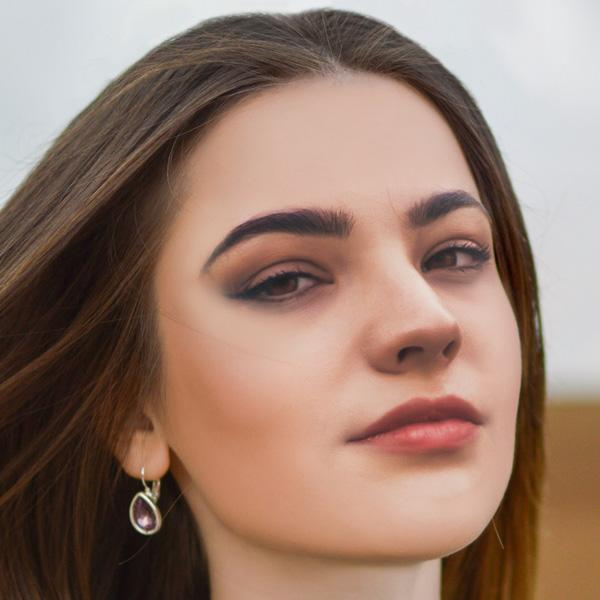Eyes: (222, 246, 343, 329), (409, 221, 494, 295)
